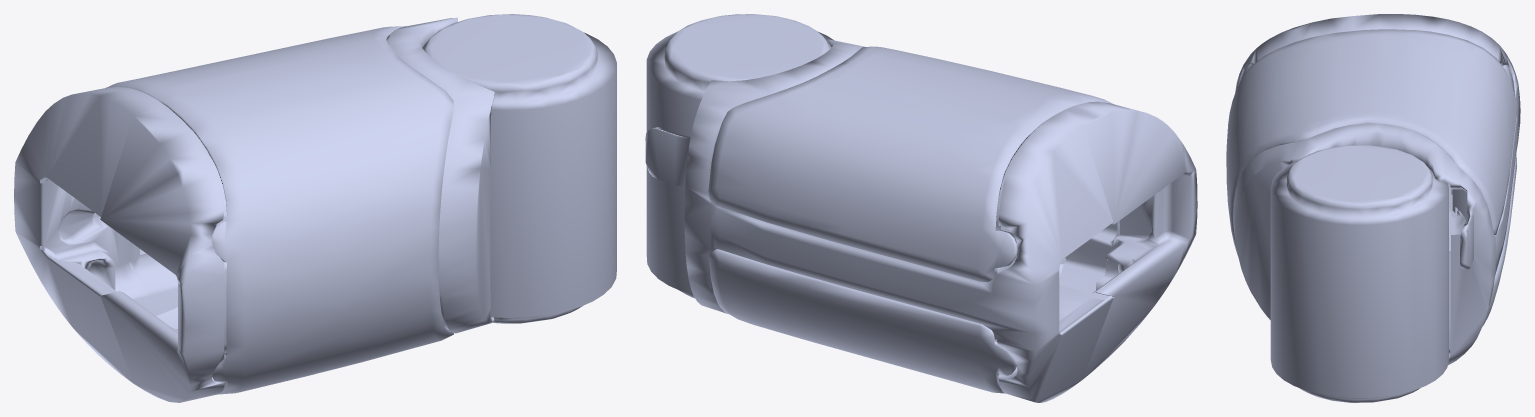
Rendered from right_thumb_PP_visual_cad1ee.glb.
3 renders of one model, left to right at view 1: azimuth 30°, elevation 25°; view 2: azimuth 150°, elevation 25°; view 3: azimuth 270°, elevation 25°, orthographic. The views are drawn at different scales.
Parts seen in each view (by area): view 1: right_thumb_PP_visual_0; view 2: right_thumb_PP_visual_0; view 3: right_thumb_PP_visual_0.
Boxes of the visible parts, left/top/right/bottom form: right_thumb_PP_visual_0: left=14, top=14, right=616, bottom=402; right_thumb_PP_visual_0: left=645, top=14, right=1197, bottom=402; right_thumb_PP_visual_0: left=1226, top=14, right=1520, bottom=402.
Size of the model in its own units: 0.0372 by 0.0197 by 0.0231.
